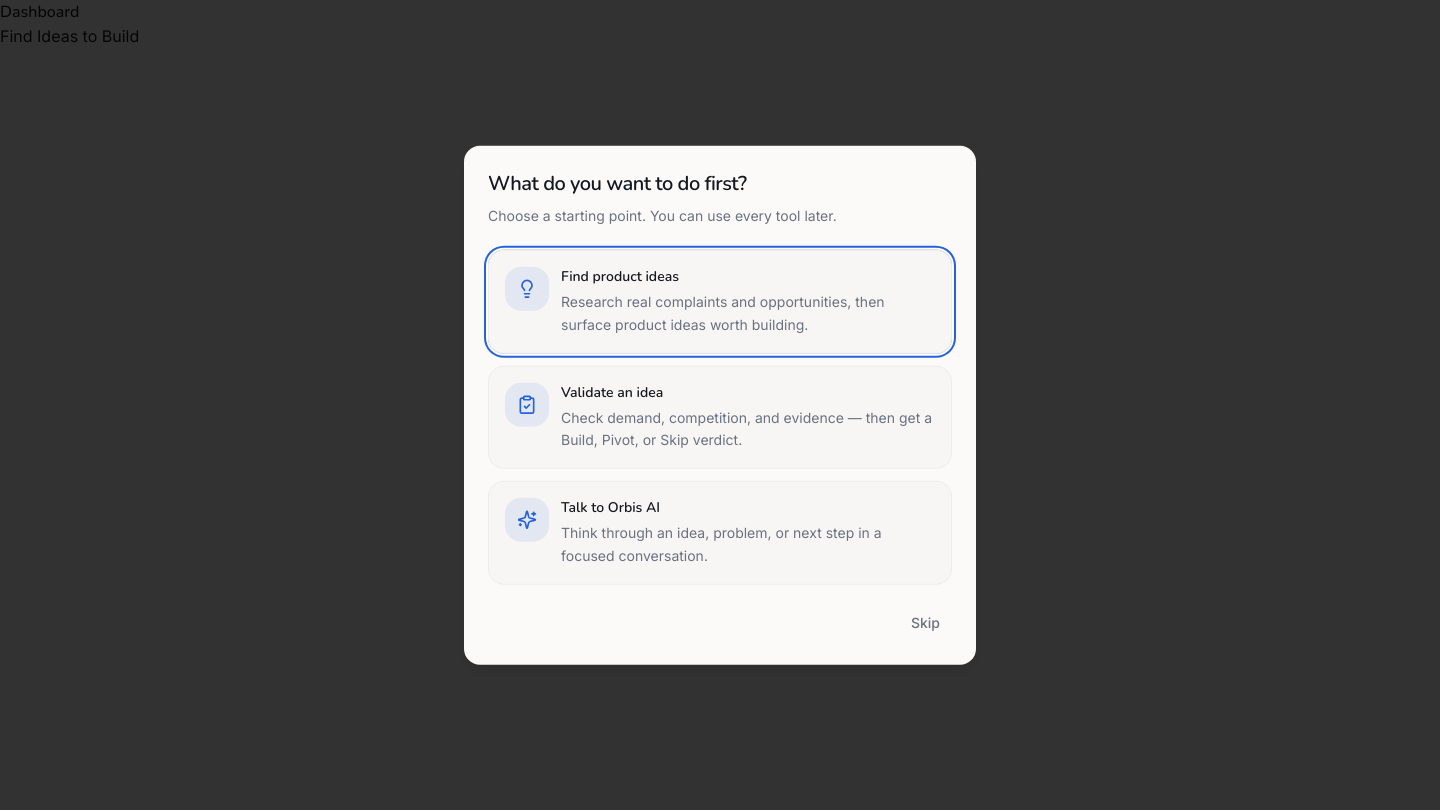
Test: OnboardingTour accessibility › restores focus to the dashboard welcome after skip
This screenshot has width=1440, height=810.
Expected: the dialog is shown, x1=464 y1=146 x2=976 y2=664
Step 1. Click the button "Skip" → (925, 622), box x1=899 y1=604 x2=952 y2=640
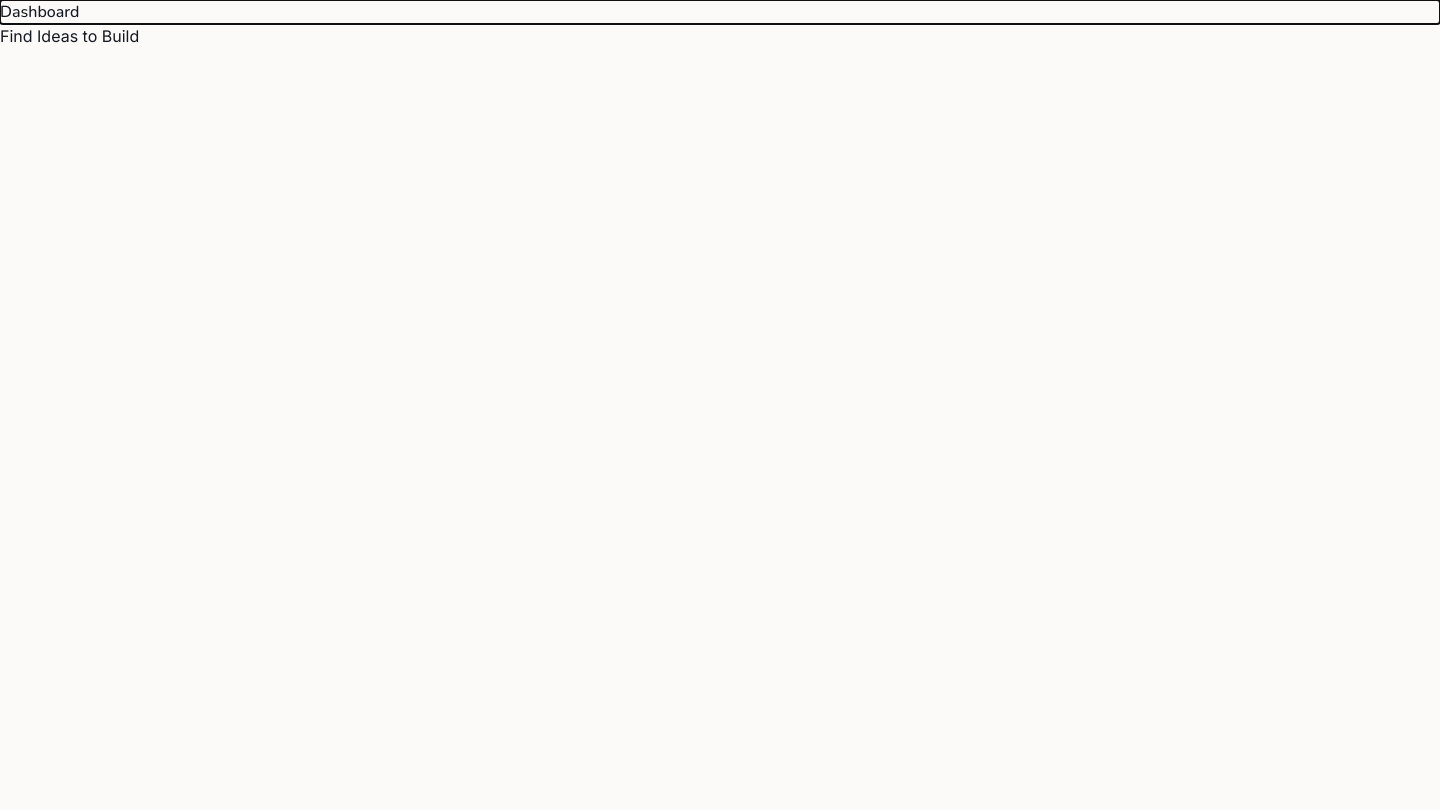
Expected: the dialog is gone
